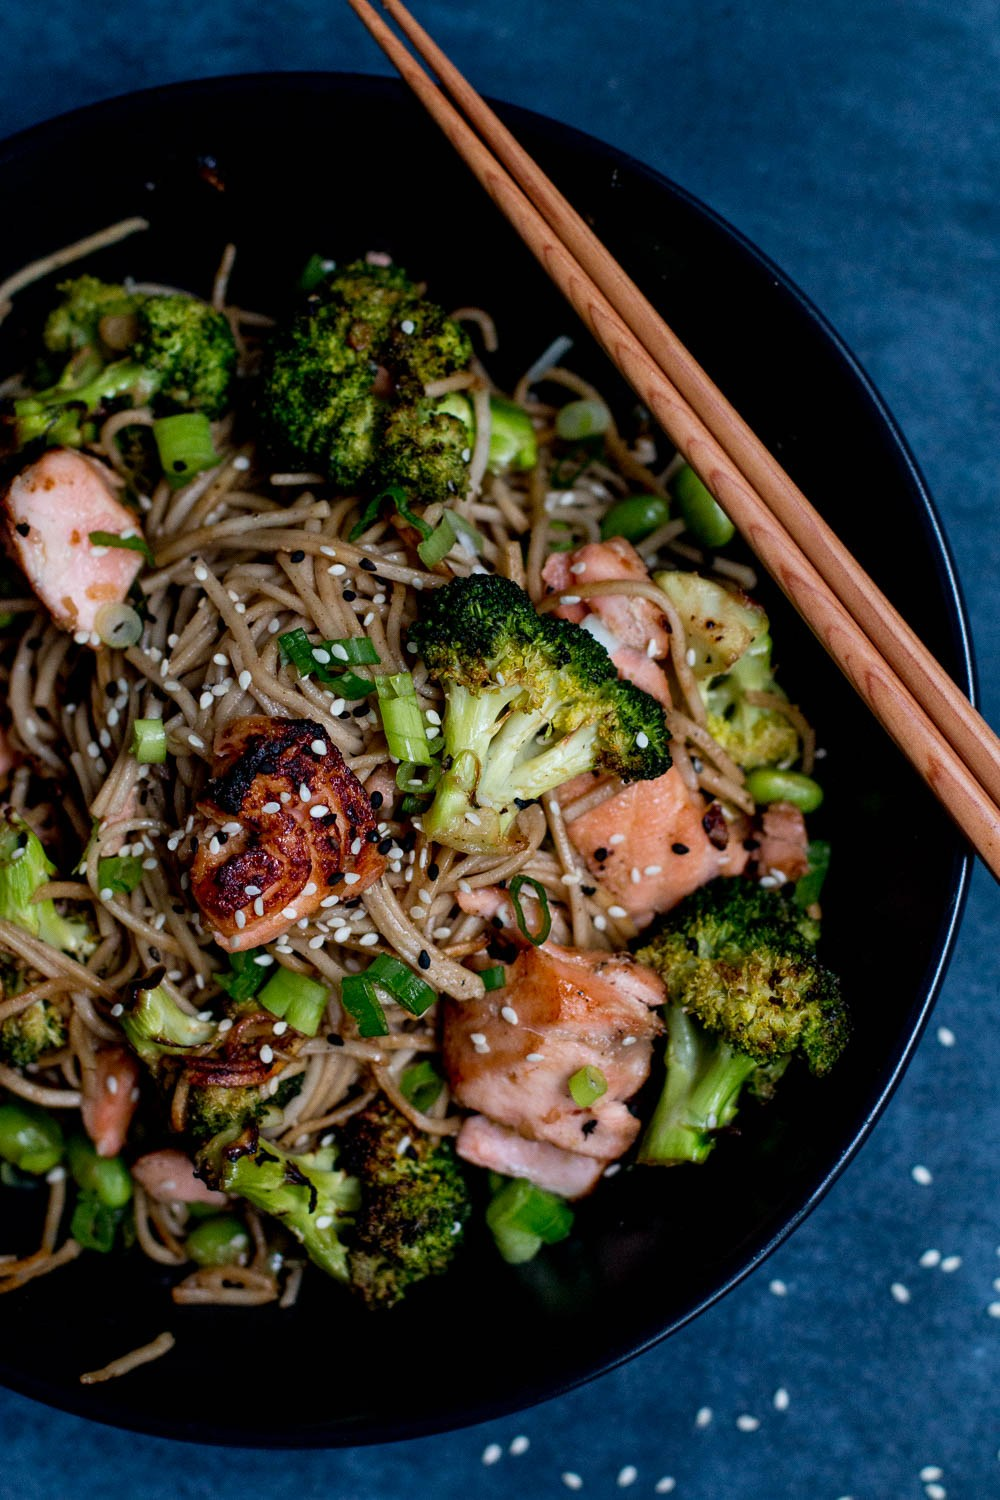Soba: (17, 265, 817, 1310)
